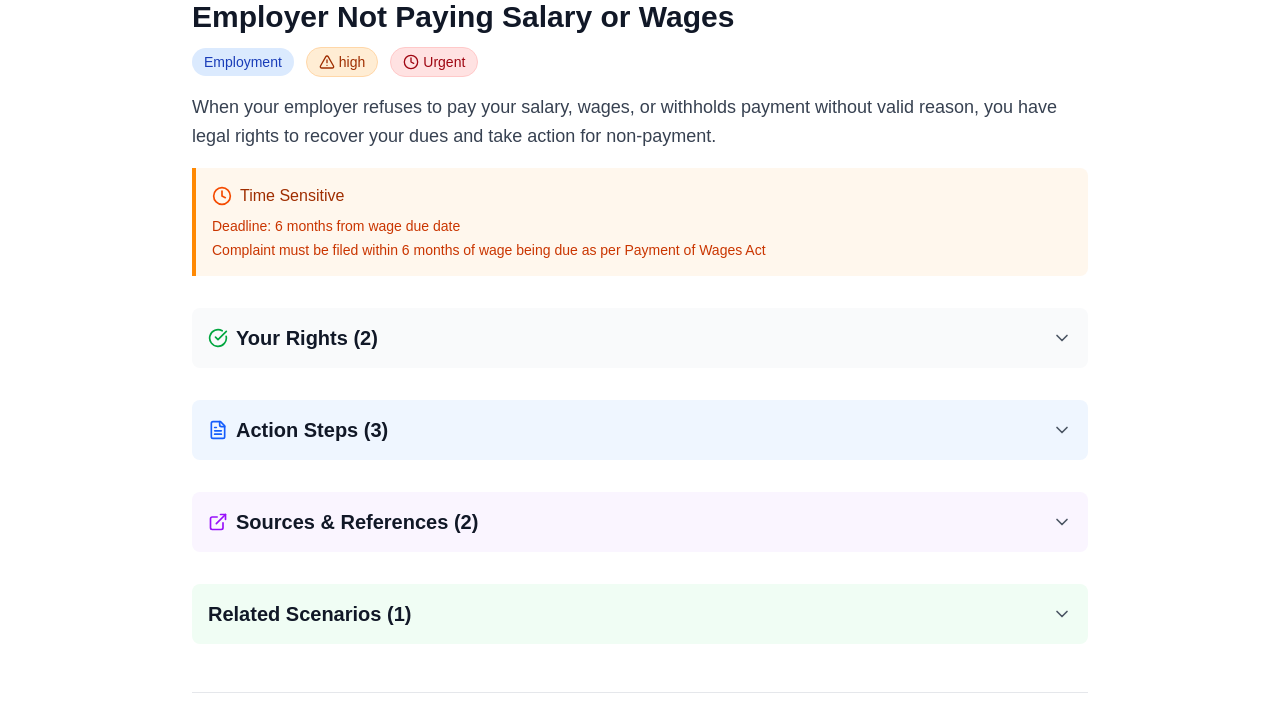
it: Scenario Display Integration › Related Scenarios Integration › should load and display related scenarios
Click the button "Related Scenarios (1)" at (301, 614), box [192,584,1088,644]
(page scrolled)
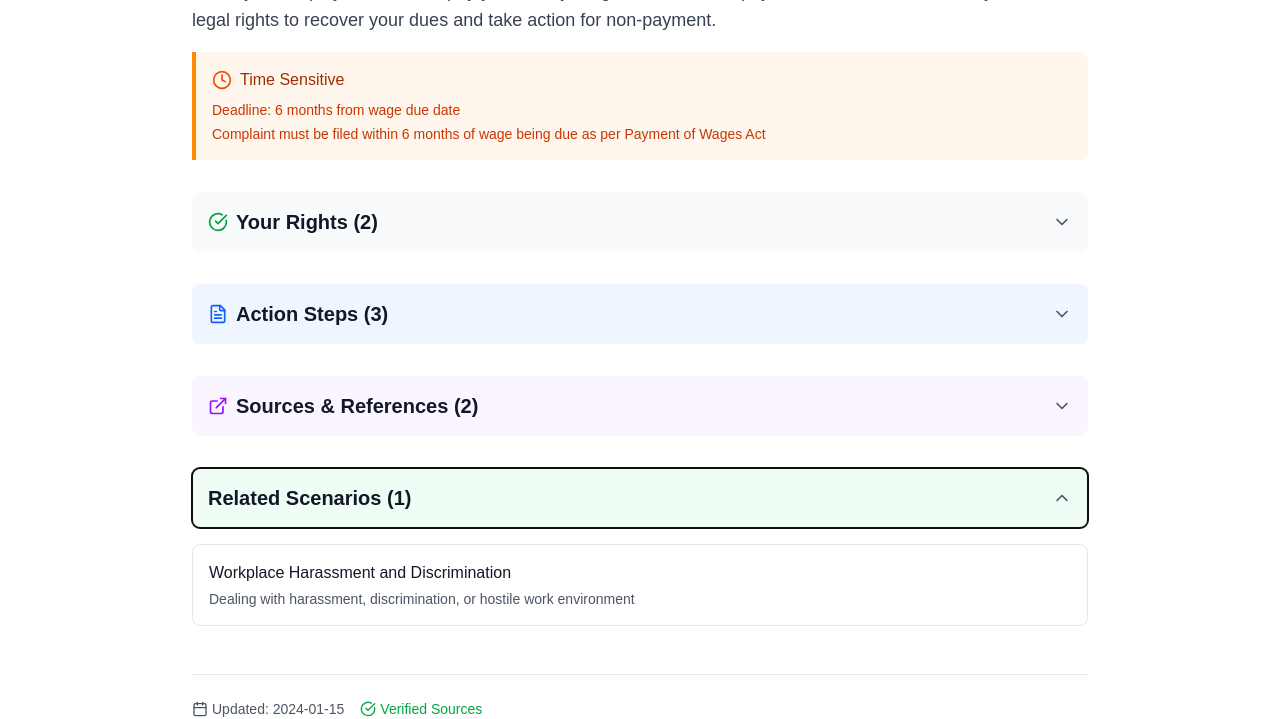
Expected: the heading "Workplace Harassment and Discrimination" is shown, [209,564,511,580]
Expected: the text "Dealing with harassment" is shown, [209,590,635,606]
